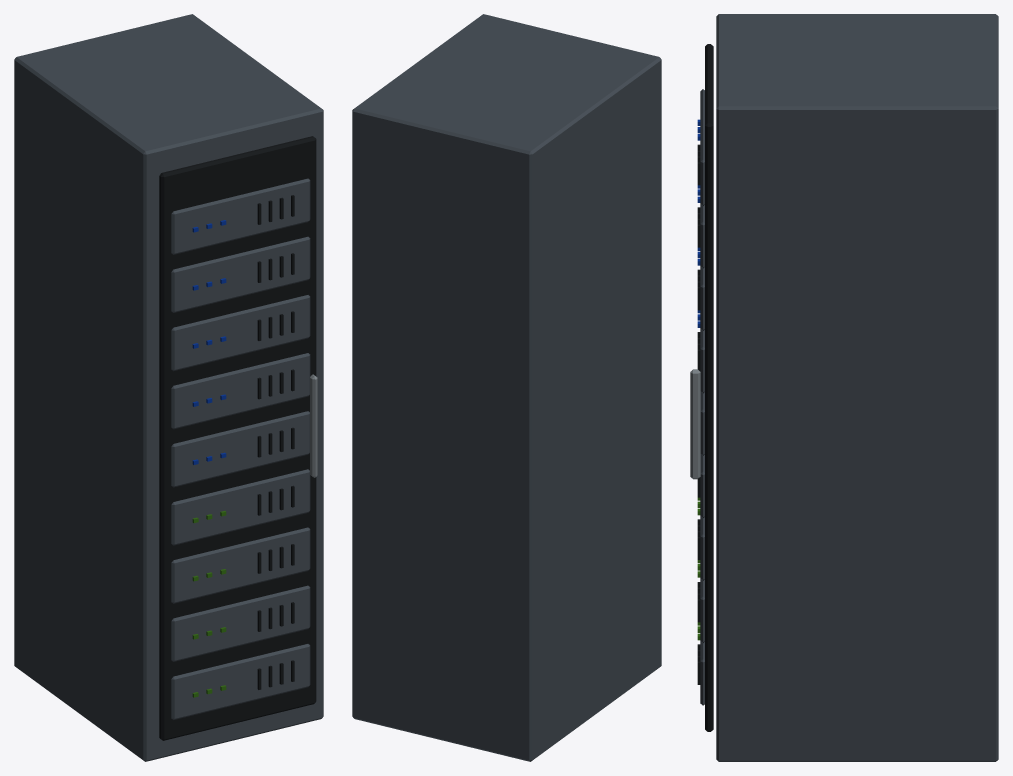
The model's file is ServerRackCompact.fbx.
The picture shows the model from 3 angles, left to right: view 1: azimuth 30°, elevation 25°; view 2: azimuth 150°, elevation 25°; view 3: azimuth 270°, elevation 25°; orthographic projection. The views are drawn at different scales.
Parts seen in each view (by area): view 1: ServerRackCompact; view 2: ServerRackCompact; view 3: ServerRackCompact.
Boxes of the visible parts, x1,y1,x2,y2 form: ServerRackCompact: (14, 14, 323, 761); ServerRackCompact: (352, 14, 661, 761); ServerRackCompact: (690, 14, 998, 761).
Bounding box in the file's own units: 65 × 210 × 89.5.
1 material, 1 textured.
